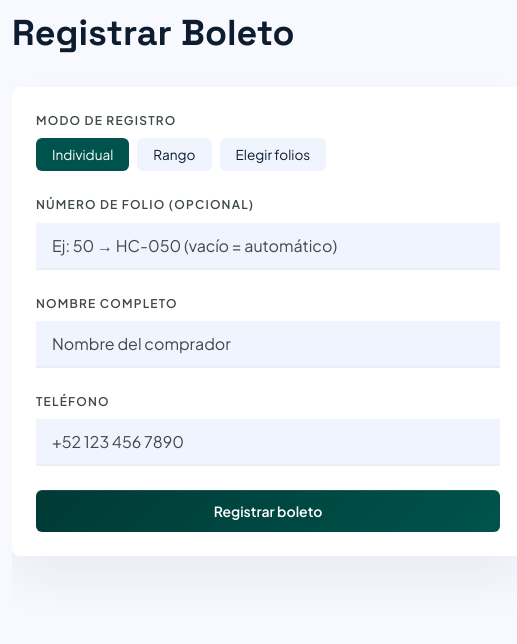
TicketNewPage › shows connection error on network failure
Step 1. Type "Test" into the field labelled "Nombre completo" → (268, 344), box [36,321,500,368]
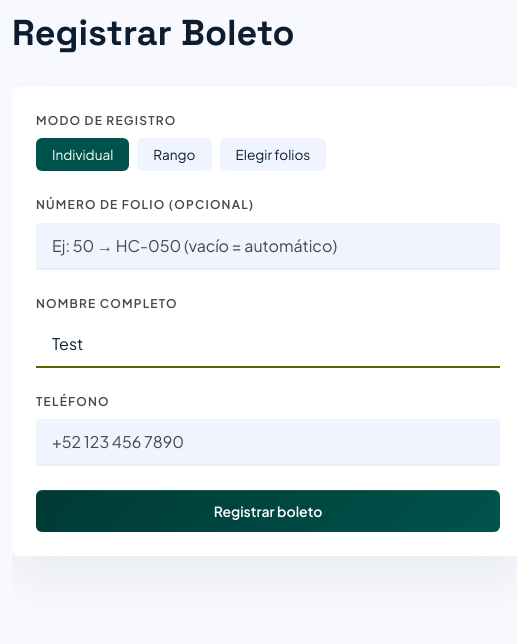
Step 2. Type "123" into the field labelled "Teléfono" → (268, 442), box [36,419,500,466]
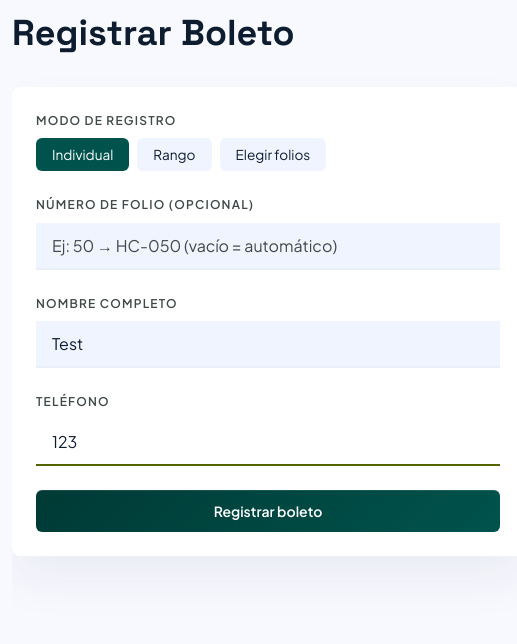
Step 3. Click the button "Registrar boleto" → (268, 511), box [36,490,500,532]
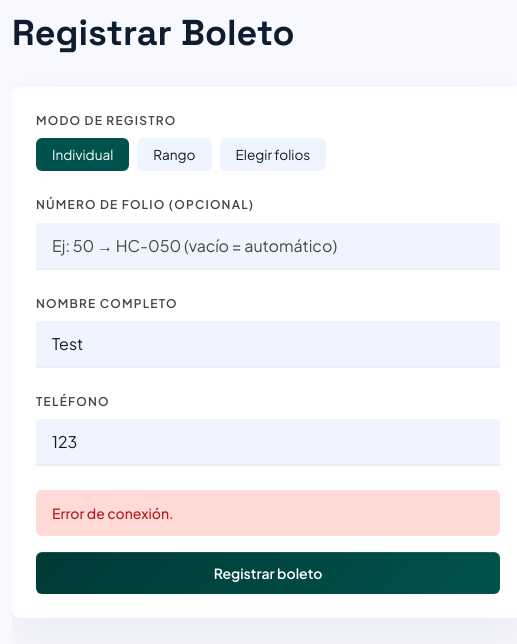
Expected: the message shows "Error de conexión", [52,504,174,522]
